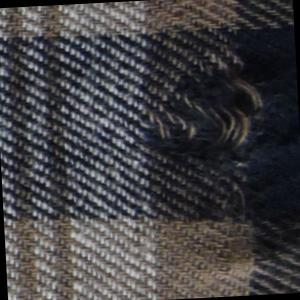Damage: (127, 33, 290, 179)
Wrinkle: (173, 218, 300, 300)
